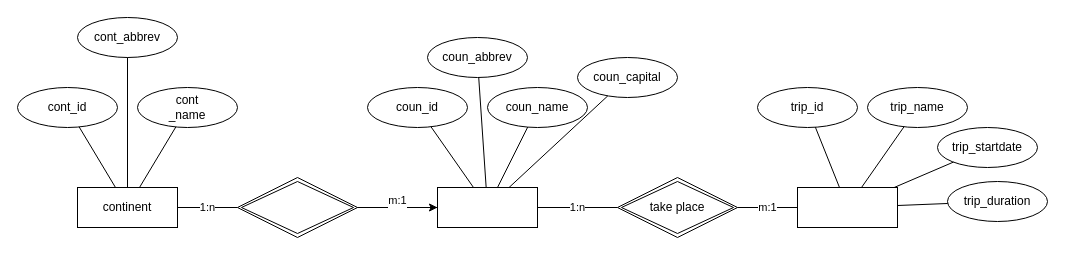
Some shapes in this 1065 by 255 pixel diagram are drawn without their labels. Here are the shapes that lost their labels. From the top down, the box of each, then its label:
(236, 176, 358, 238): hosts
(436, 186, 538, 228): country
(796, 186, 898, 228): trip
